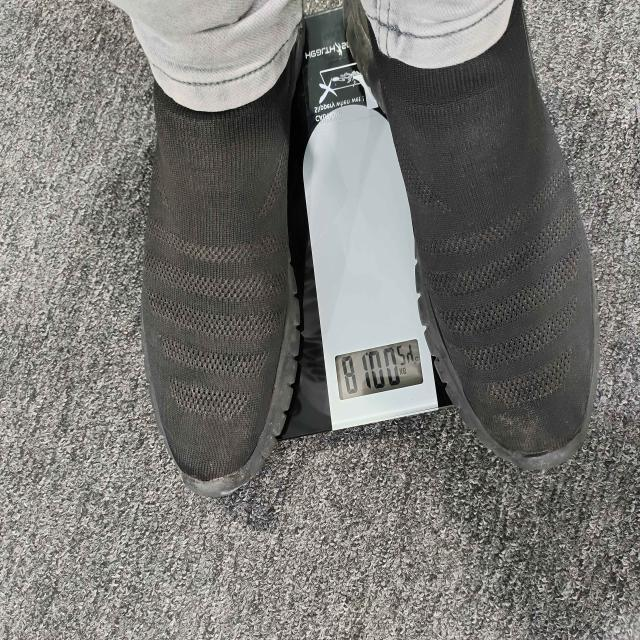ws: (303, 62, 440, 432)
